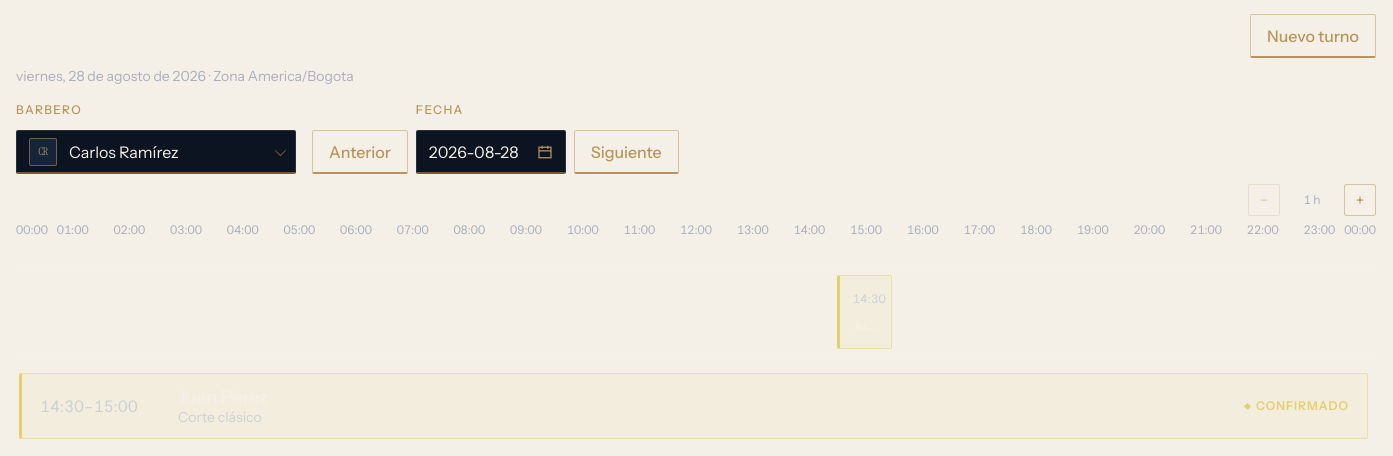
Test: DailyAgendaPage › línea temporal de escritorio (Fase 4a, adopción NAVA) › zoom del carril › narrows the tick step and widens the track on each zoom-in, down to 15min
Click the button named "Acercar el calendario" at (1360, 200), box x1=1344 y1=184 x2=1376 y2=216
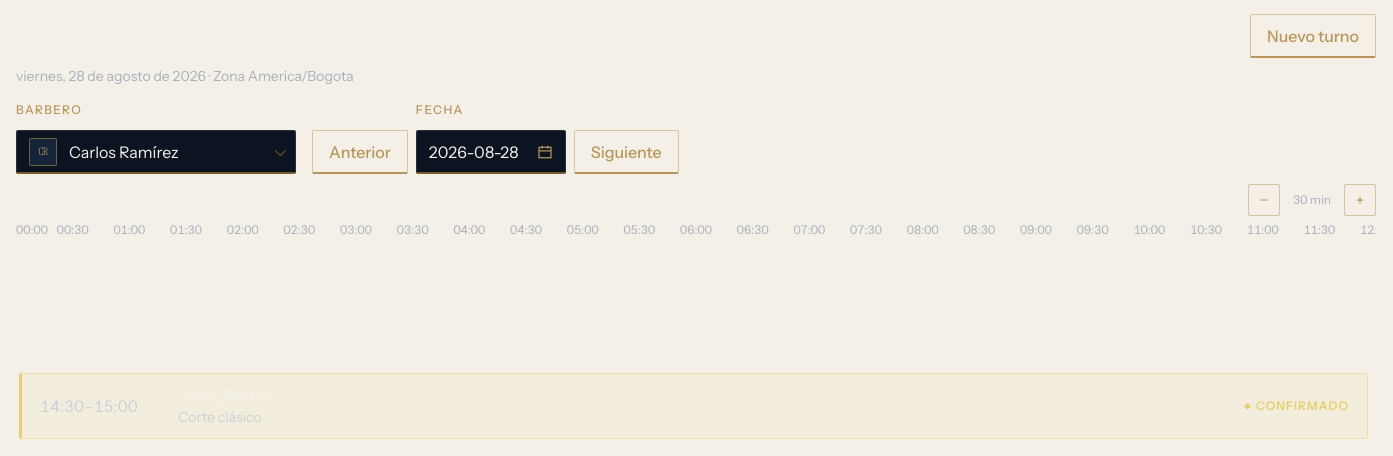
Now the text with class "daily-agenda-page__timeline-zoom-label" reads "30 min", box x1=1293 y1=192 x2=1331 y2=207
Click the button named "Acercar el calendario" at (1360, 200), box x1=1344 y1=184 x2=1376 y2=216
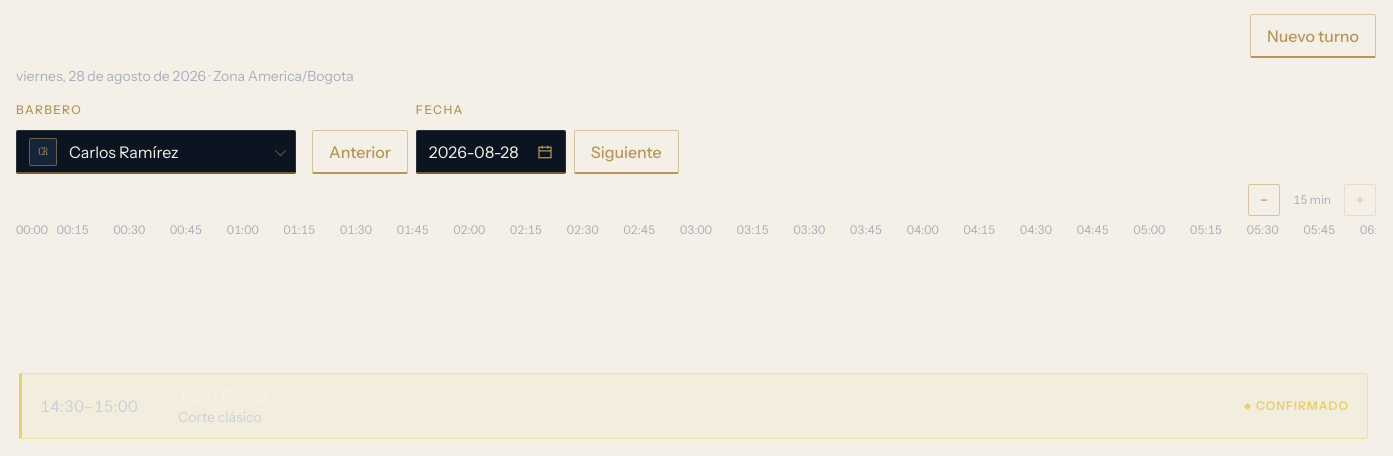
Expected: the button named "Alejar el calendario" is enabled, x1=1248 y1=184 x2=1280 y2=216
Now the text with class "daily-agenda-page__timeline-zoom-label" reads "15 min", box x1=1293 y1=192 x2=1331 y2=207
